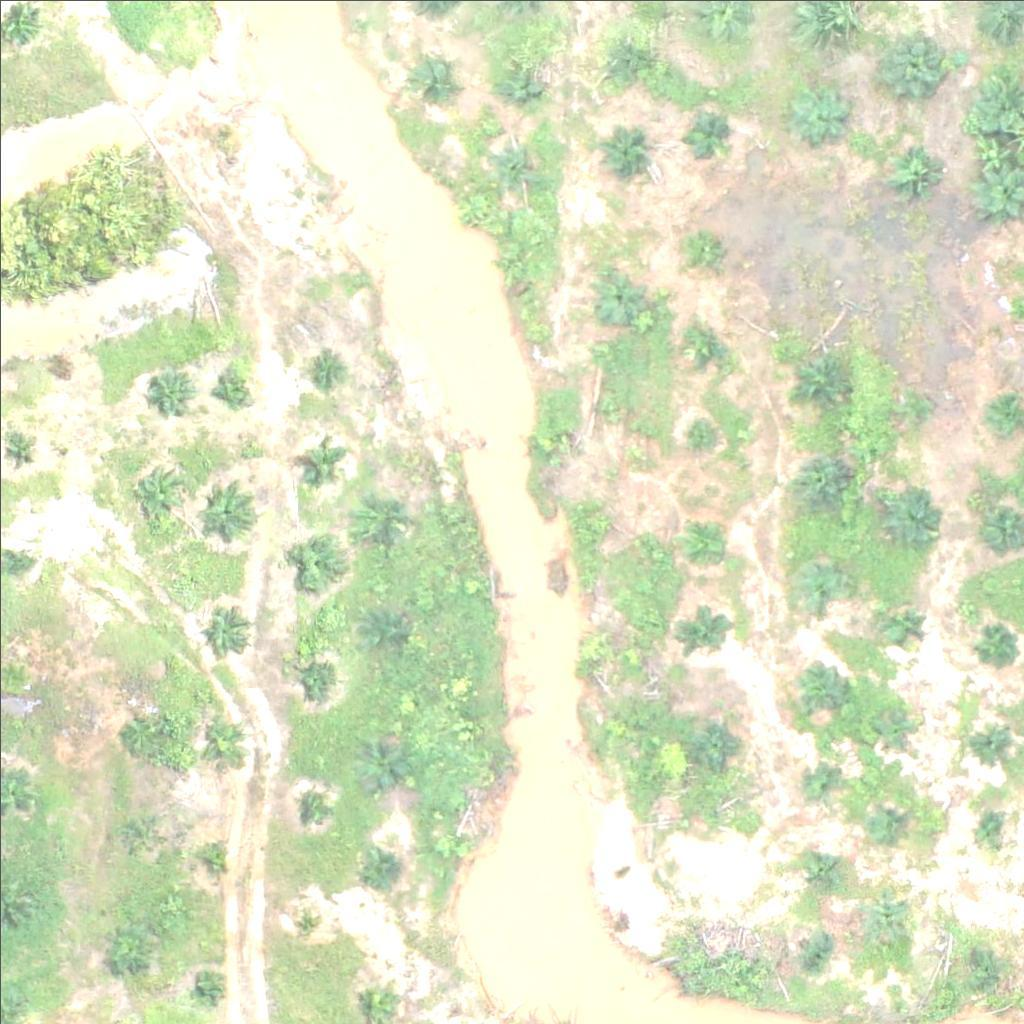Kelapa_Sawit: (883, 486, 946, 549), (885, 133, 948, 196), (881, 33, 944, 96), (786, 550, 849, 613), (128, 461, 191, 524), (788, 81, 850, 144), (195, 479, 257, 542), (792, 455, 842, 506), (793, 352, 843, 403), (111, 708, 161, 759), (682, 320, 732, 371), (198, 714, 248, 765), (968, 620, 1018, 671), (791, 665, 841, 715), (598, 133, 648, 183), (680, 108, 730, 158), (491, 138, 541, 188), (592, 269, 642, 319), (495, 53, 545, 103), (409, 54, 459, 104), (601, 29, 651, 79), (290, 644, 340, 694), (292, 535, 342, 585), (203, 602, 253, 652), (143, 366, 193, 416), (678, 601, 728, 651), (680, 511, 730, 561), (103, 920, 153, 970), (356, 736, 406, 786), (687, 716, 737, 766), (354, 485, 404, 535), (495, 243, 533, 281), (683, 232, 721, 270), (305, 442, 343, 480), (304, 351, 342, 389), (217, 368, 255, 406), (591, 391, 629, 429), (581, 504, 619, 542), (575, 629, 613, 667), (364, 847, 402, 885), (965, 811, 1003, 849), (797, 769, 835, 807), (797, 856, 835, 894), (798, 931, 836, 969), (528, 429, 565, 467), (120, 811, 158, 848), (365, 609, 402, 647), (969, 728, 1007, 765), (955, 931, 992, 969), (870, 894, 907, 932), (865, 802, 902, 840), (875, 706, 912, 744), (894, 389, 931, 427), (682, 411, 719, 448), (884, 603, 921, 640), (5, 547, 30, 572), (197, 974, 222, 999), (204, 844, 229, 869), (292, 905, 317, 930), (298, 793, 323, 818)
